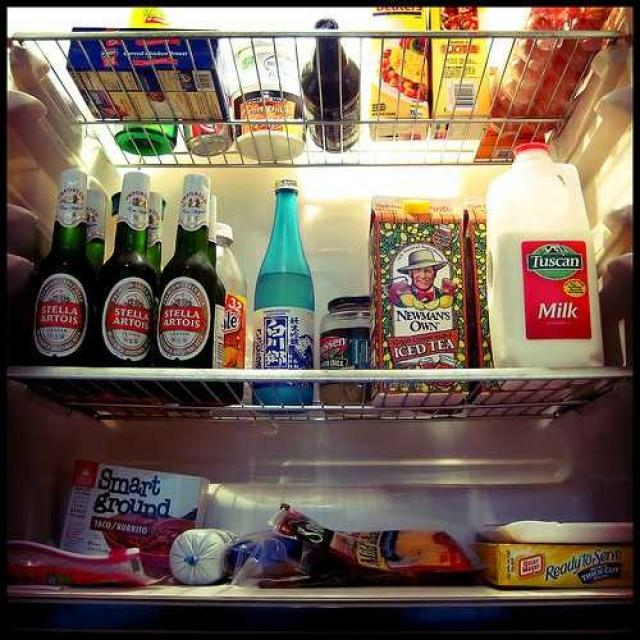refrigerator: (0, 126, 640, 639)
